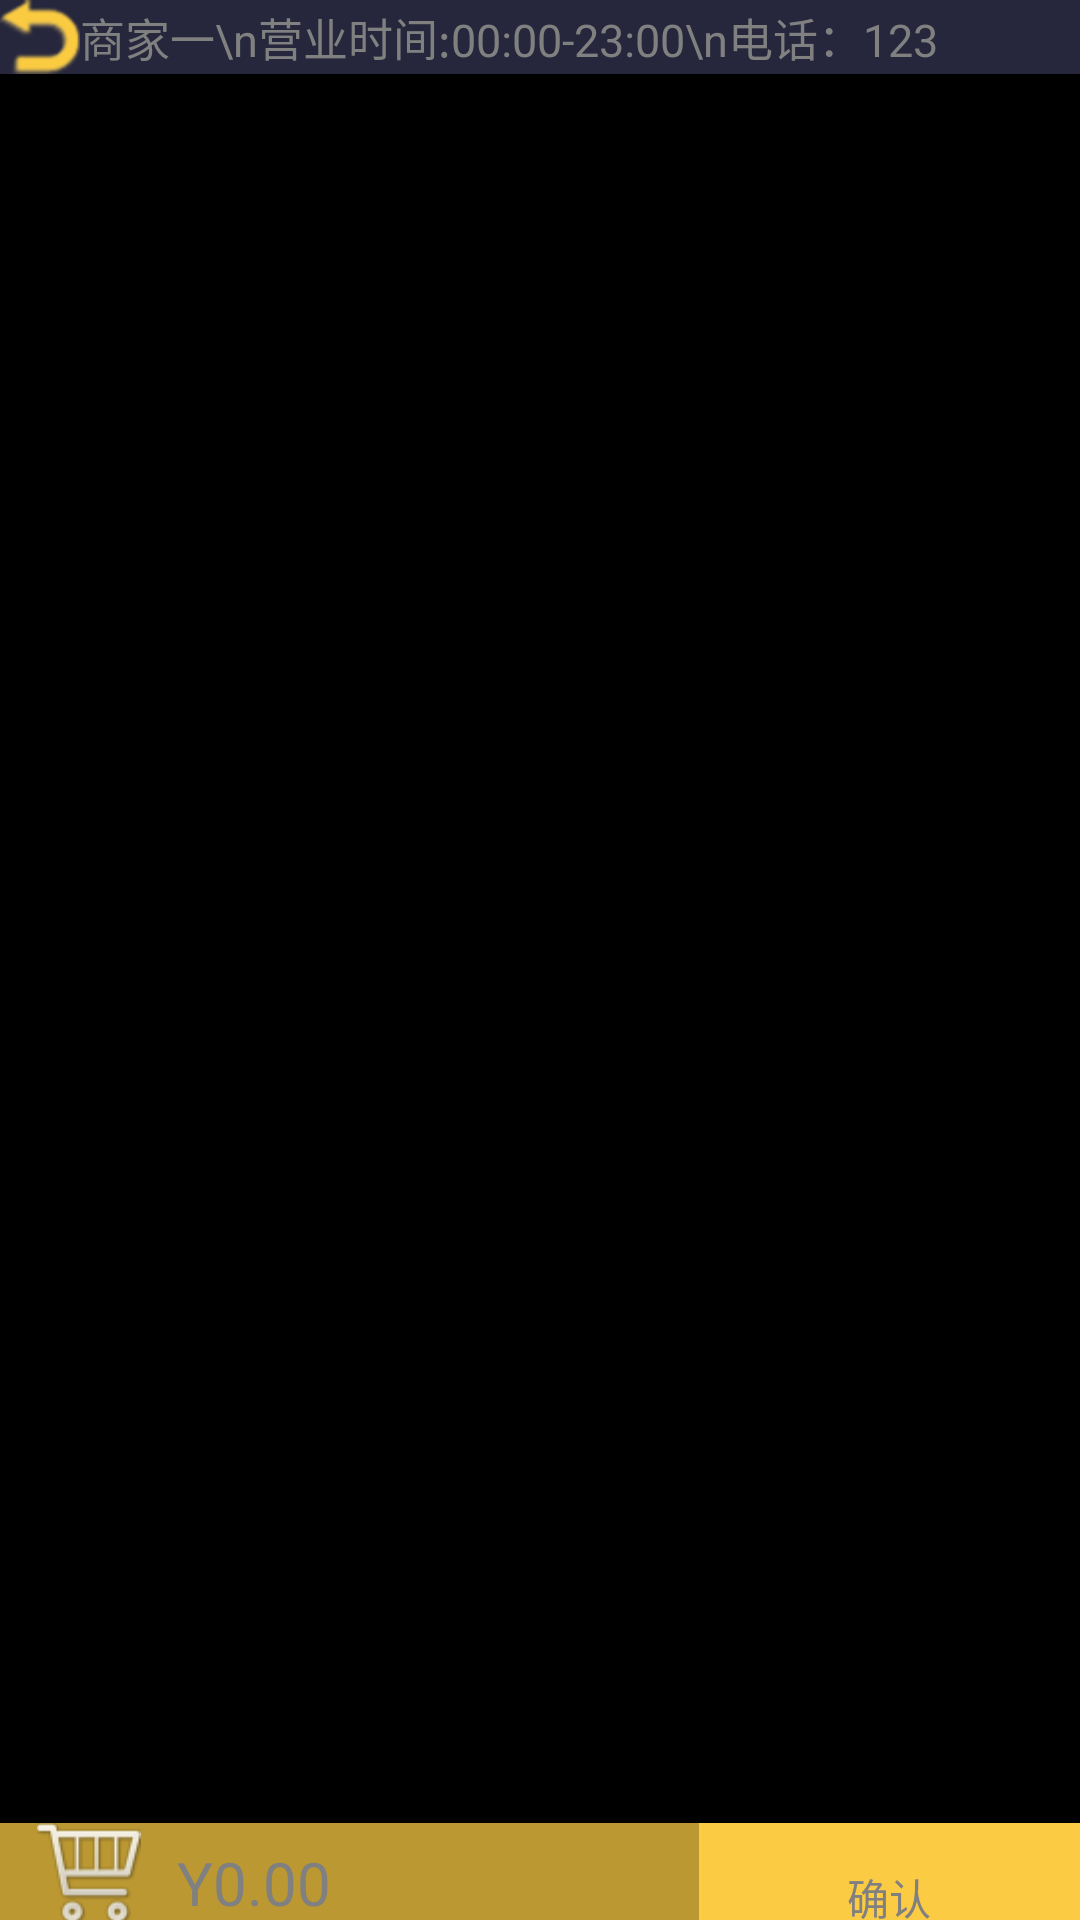

Point at icon controls on the screen. Image size 1080x1920, points as point (x, y).
cart: point (89, 1871)
goback: point (40, 37)
